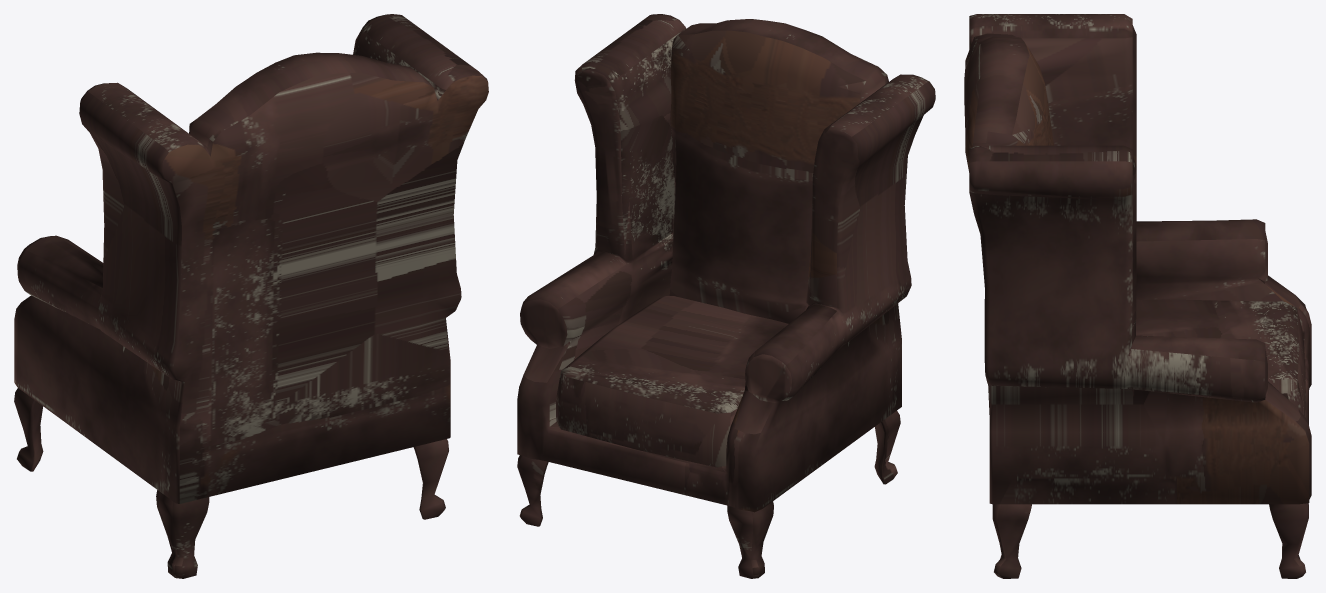
The model's file is sillon.obj.
The picture shows the model from 3 angles, left to right: view 1: azimuth 30°, elevation 25°; view 2: azimuth 150°, elevation 25°; view 3: azimuth 270°, elevation 25°; orthographic projection. The views are drawn at different scales.
Visible parts, largest first — view 1: chair_chesterfield; view 2: chair_chesterfield; view 3: chair_chesterfield.
Boxes of the visible parts, left/top/right/bottom form: chair_chesterfield: left=14, top=14, right=488, bottom=578; chair_chesterfield: left=517, top=14, right=935, bottom=578; chair_chesterfield: left=964, top=14, right=1311, bottom=578.
Bounding box in the file's own units: 32.32 × 45 × 30.55.
1 material, 1 textured.
